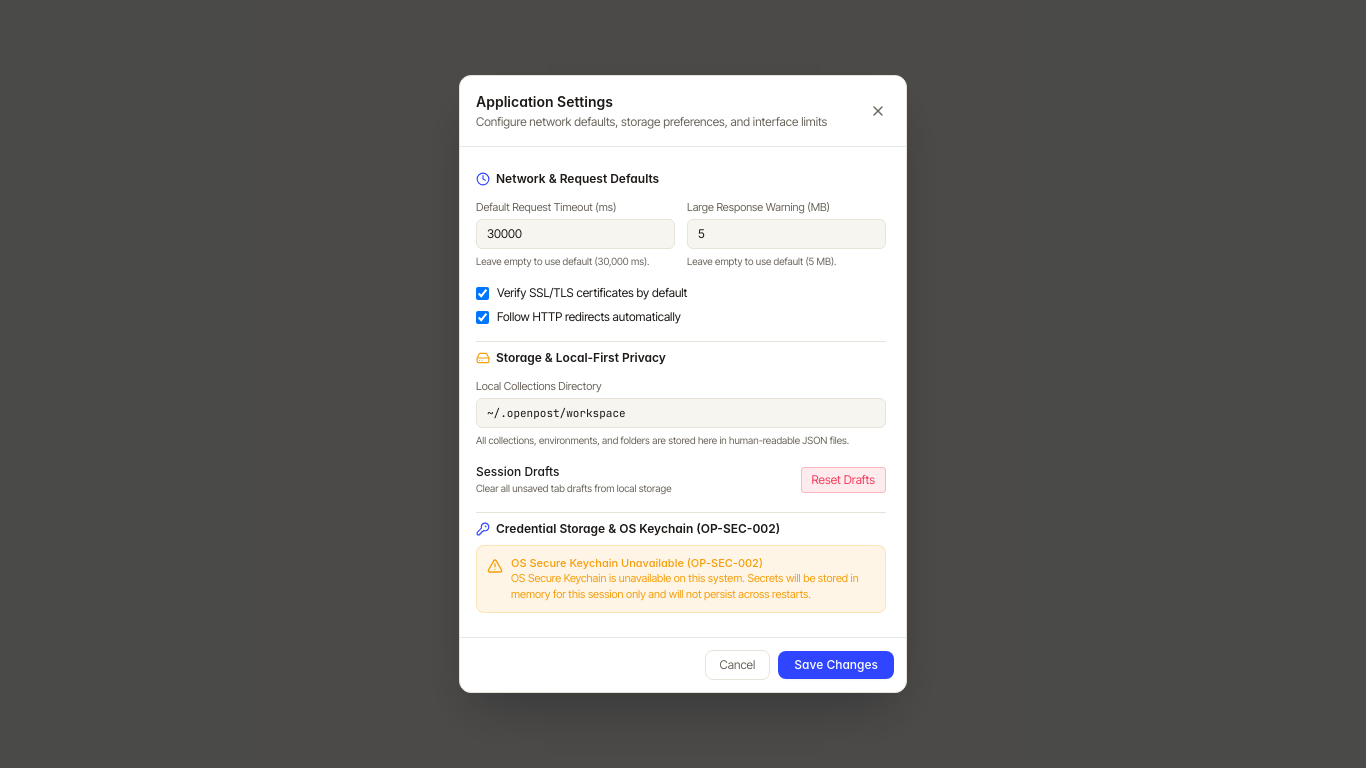
Test: Sidebar and Settings Enhancements (Step 1 Items 1, 3, 4) › Settings Dialog Numeric Inputs and Inline Validation › validates large response warning limits (1 to 500 MB) with inline message
Type "999" into the field labelled "Large Response Warning (MB)" at (786, 234), box [687,219,886,249]
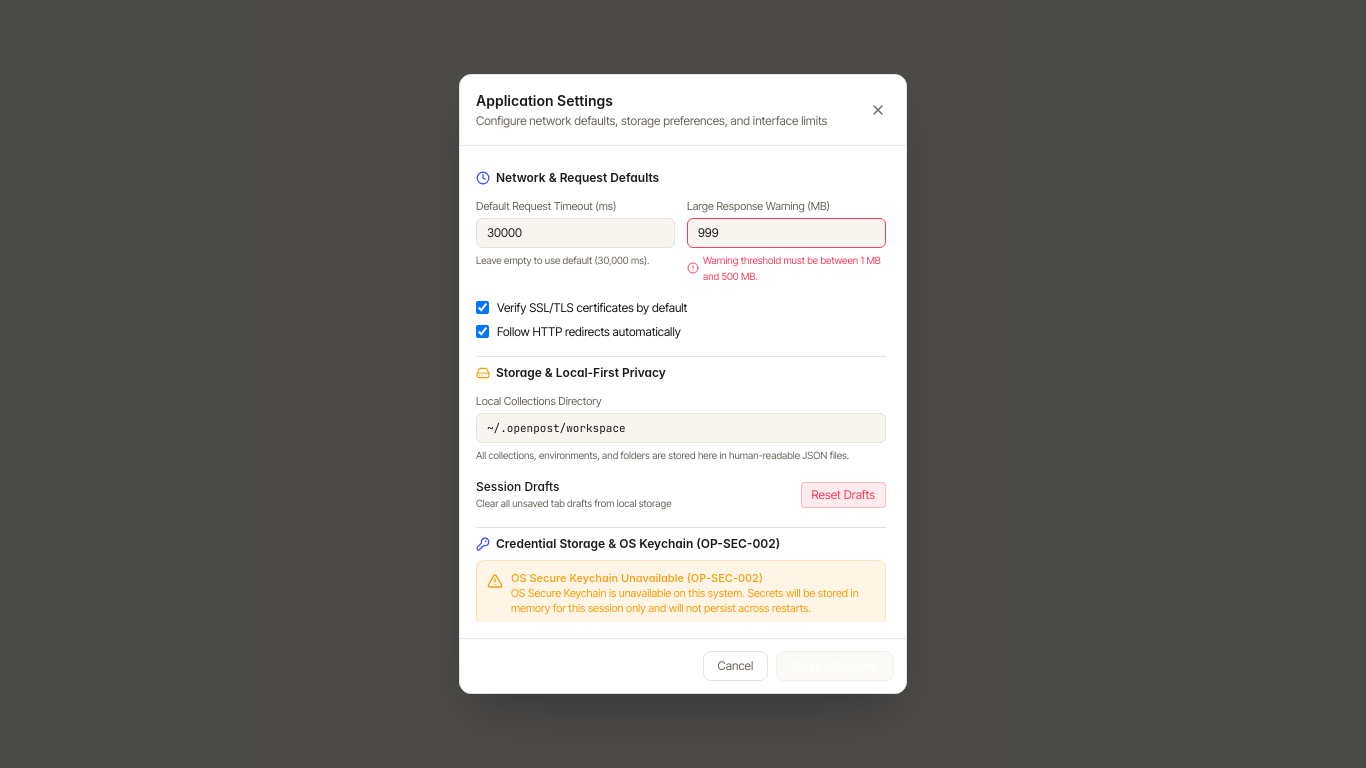
Now the text "Warning threshold must be between 1 MB and 500 MB." is shown, box [703,252,886,284]
Replace the text in the field labelled "Large Response Warning (MB)" with "10" at (786, 233), box [687,218,886,248]
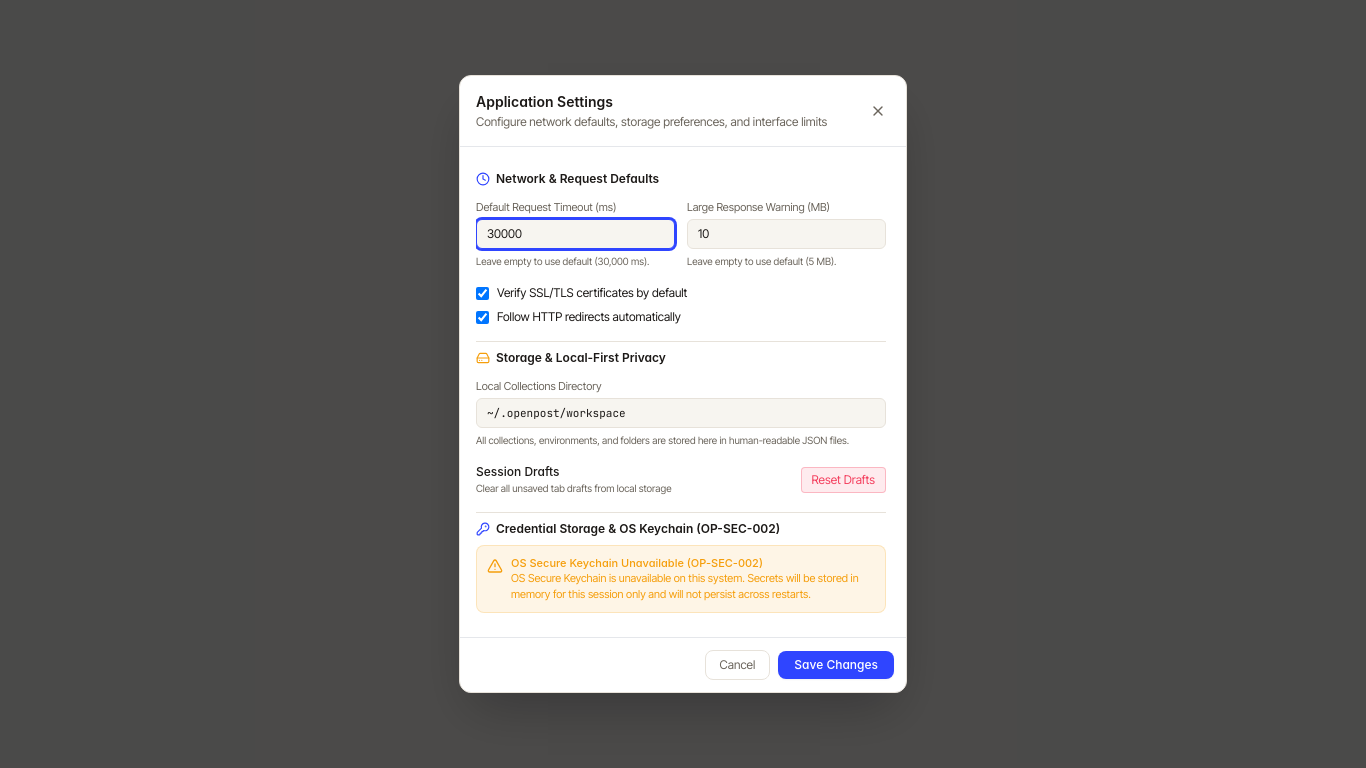
Now the text "Warning threshold must be between 1 MB and 500 MB" is gone
